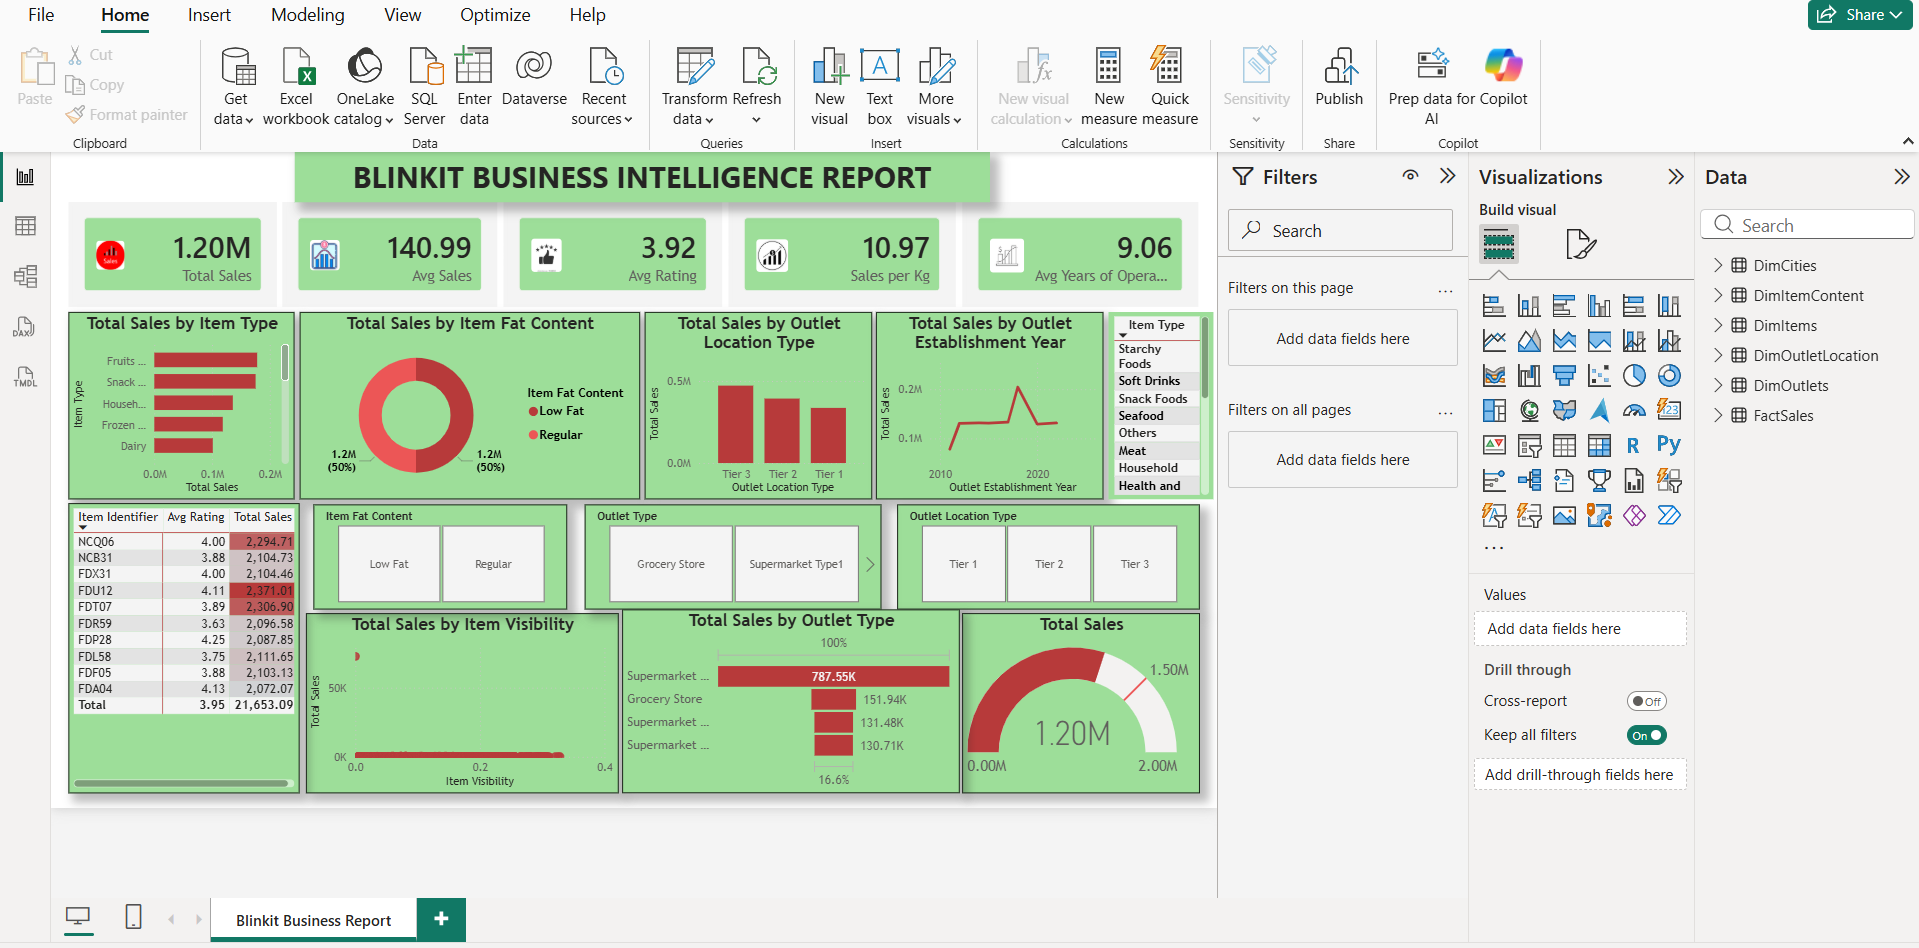

What the dashboard file says about the page in this screenshot:
{"tool":"powerbi","page":{"name":"Blinkit Business Report","canvas":[1280,720],"ordinal":0},"visuals":[{"type":"cardVisual","fields":{"Data":["FactSales.Total Sales"]},"box":[19.2,55.3,229.2,115.3],"z":0},{"type":"cardVisual","fields":{"Data":["FactSales.Avg Sales"]},"box":[253.9,55.3,236,115.3],"z":1000},{"type":"cardVisual","fields":{"Data":["FactSales.Avg Rating"]},"box":[496.7,55.3,240.1,115.3],"z":2000},{"type":"cardVisual","fields":{"Data":["FactSales.Sales per Kg"]},"box":[743.7,55.3,249.7,115.3],"z":3000},{"type":"cardVisual","fields":{"Data":["FactSales.Avg Years of Operation"]},"box":[1000.3,55.3,259.3,115.3],"z":4000},{"type":"clusteredBarChart","fields":{"Category":["DimItems.Item Type"],"Y":["FactSales.Total Sales"]},"box":[19.2,175.6,248.4,205.8],"z":5000},{"type":"donutChart","fields":{"Category":["DimItemContent.Item Fat Content"],"Y":["FactSales.Total Sales"]},"box":[273.1,175.6,373.2,205.8],"z":6000},{"type":"clusteredColumnChart","fields":{"Category":["DimOutletLocation.Outlet Location Type"],"Y":["FactSales.Total Sales"]},"box":[651.8,175.6,249.7,205.8],"z":7000},{"type":"lineChart","fields":{"Category":["DimOutlets.Outlet Establishment Year"],"Y":["FactSales.Total Sales"]},"box":[905.7,175.6,249.7,205.8],"z":8000},{"type":"scatterChart","fields":{"X":["FactSales.Item Visibility"],"Y":["FactSales.Total Sales"]},"box":[279.9,506.3,343.1,197.6],"z":9000},{"type":"pivotTable","fields":{"Rows":["FactSales.Item Identifier"],"Values":["FactSales.Avg Rating","FactSales.Total Sales"]},"box":[19.2,385.6,253.9,318.4],"z":10000},{"type":"slicer","fields":{"Values":["DimOutletLocation.Outlet Location Type"]},"box":[929,387,332.1,115.3],"z":11000},{"type":"slicer","fields":{"Values":["DimOutlets.Outlet Type"]},"box":[585.9,387,325.2,115.3],"z":12000},{"type":"slicer","fields":{"Values":["DimItemContent.Item Fat Content"]},"box":[288.2,387,278.6,115.3],"z":13000},{"type":"tableEx","fields":{"Values":["DimItems.Item Type"]},"box":[1160.9,175.6,115.3,205.8],"z":14000},{"type":"gauge","fields":{"Y":["FactSales.Total Sales"]},"box":[1000.3,506.3,260.7,197.6],"z":15000},{"type":"funnel","fields":{"Category":["DimOutlets.Outlet Type"],"Y":["FactSales.Total Sales"]},"box":[627.1,502.2,370.5,201.7],"z":16000},{"type":"textbox","box":[267.6,0,763,54.9],"z":17000}]}

Visuals, with their boxes on the page's 1280x720 design canvas (x1, y1, x2, y2). These are canvas units, not pixel positions in the 1919x948 screenshot, which may show the page scaled, cropped or inside an application window:
cardVisual - FactSales.Total Sales: locate(19, 55, 248, 171)
cardVisual - FactSales.Avg Sales: locate(254, 55, 490, 171)
cardVisual - FactSales.Avg Rating: locate(497, 55, 737, 171)
cardVisual - FactSales.Sales per Kg: locate(744, 55, 993, 171)
cardVisual - FactSales.Avg Years of Operation: locate(1000, 55, 1260, 171)
clusteredBarChart - DimItems.Item Type x FactSales.Total Sales: locate(19, 176, 268, 381)
donutChart - DimItemContent.Item Fat Content x FactSales.Total Sales: locate(273, 176, 646, 381)
clusteredColumnChart - DimOutletLocation.Outlet Location Type x FactSales.Total Sales: locate(652, 176, 902, 381)
lineChart - DimOutlets.Outlet Establishment Year x FactSales.Total Sales: locate(906, 176, 1155, 381)
scatterChart - FactSales.Item Visibility x FactSales.Total Sales: locate(280, 506, 623, 704)
pivotTable - FactSales.Item Identifier x FactSales.Avg Rating: locate(19, 386, 273, 704)
slicer - DimOutletLocation.Outlet Location Type: locate(929, 387, 1261, 502)
slicer - DimOutlets.Outlet Type: locate(586, 387, 911, 502)
slicer - DimItemContent.Item Fat Content: locate(288, 387, 567, 502)
tableEx - DimItems.Item Type: locate(1161, 176, 1276, 381)
gauge - FactSales.Total Sales: locate(1000, 506, 1261, 704)
funnel - DimOutlets.Outlet Type x FactSales.Total Sales: locate(627, 502, 998, 704)
textbox: locate(268, 0, 1031, 55)
